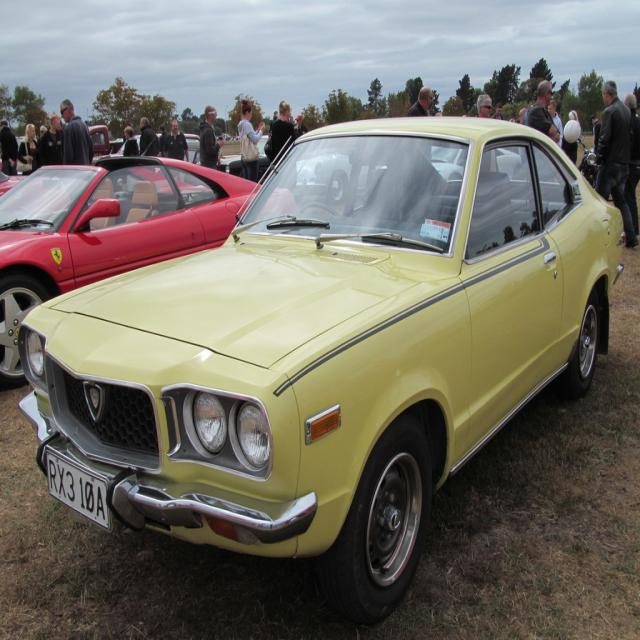car: (16, 114, 628, 613)
